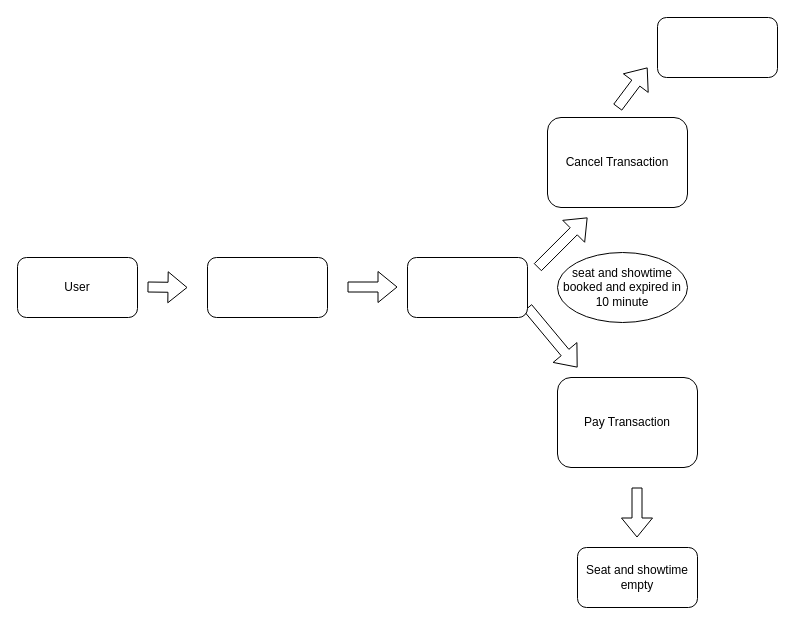
The diagram is 795 pixels wide and 625 high, and some of its shapes have lost their labels. Each missing label, with the box of its shape:
Choose Showtime and Seat: (406, 256, 528, 318)
seat and showtime available: (656, 16, 778, 78)
Transaction: (206, 256, 328, 318)
